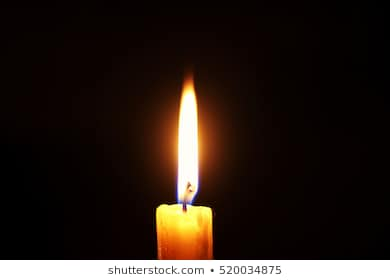Fire: (176, 67, 199, 206)
